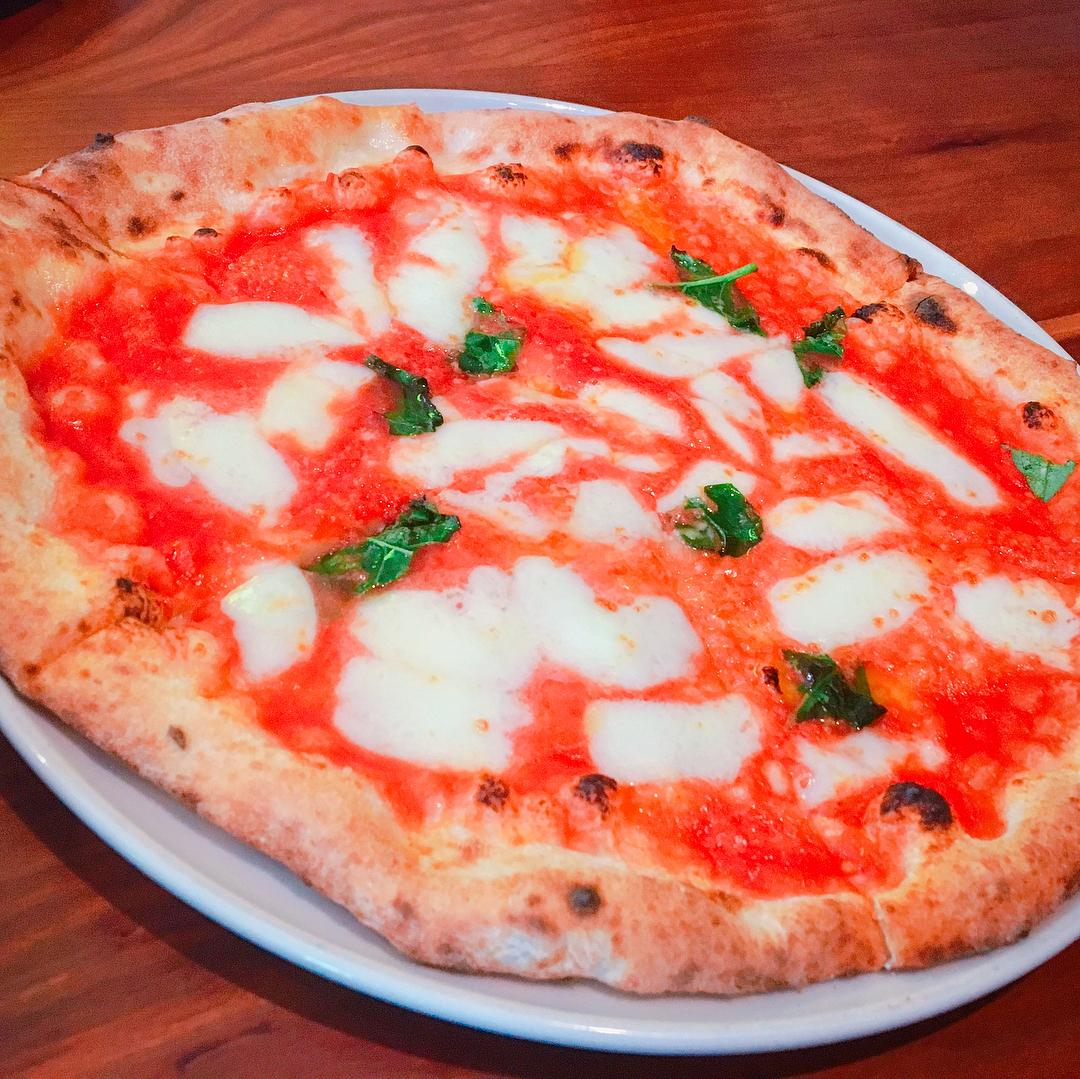Basil: (306, 492, 452, 599), (664, 243, 766, 346), (783, 644, 891, 733), (675, 481, 772, 559), (367, 354, 450, 438), (1000, 439, 1080, 510), (790, 306, 854, 392), (467, 300, 528, 382)
Cheese: (371, 586, 678, 673), (346, 658, 514, 771), (451, 426, 598, 518), (528, 233, 649, 333), (165, 417, 276, 505), (604, 715, 734, 769), (800, 570, 900, 639), (406, 219, 468, 325), (211, 306, 327, 351), (796, 501, 872, 544)
Pizza: (0, 88, 1080, 1001)
